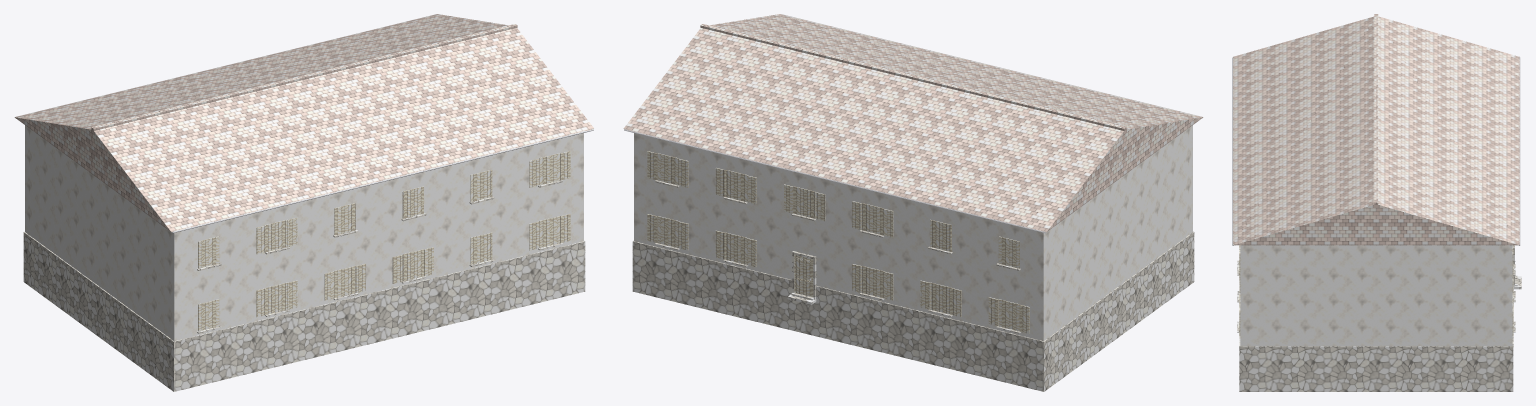
3 views of the same model, side by side, from view 1: azimuth 30°, elevation 25°; view 2: azimuth 150°, elevation 25°; view 3: azimuth 270°, elevation 25° (orthographic). The views are drawn at different scales.
Parts seen in each view (by area): view 1: b1084716805; view 2: b1084716805; view 3: b1084716805.
Part boxes in pixels (<box>): b1084716805: <box>14,14,594,391</box>; b1084716805: <box>623,14,1203,391</box>; b1084716805: <box>1232,14,1521,391</box>.
Size of the model in its own units: 21.92 by 10.4 by 14.2.
Materials: 15 (15 with a texture image).
